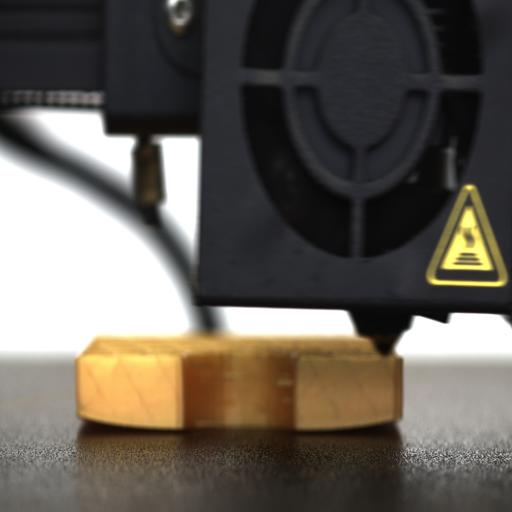warp: (292, 401, 404, 432), (79, 412, 190, 432)
